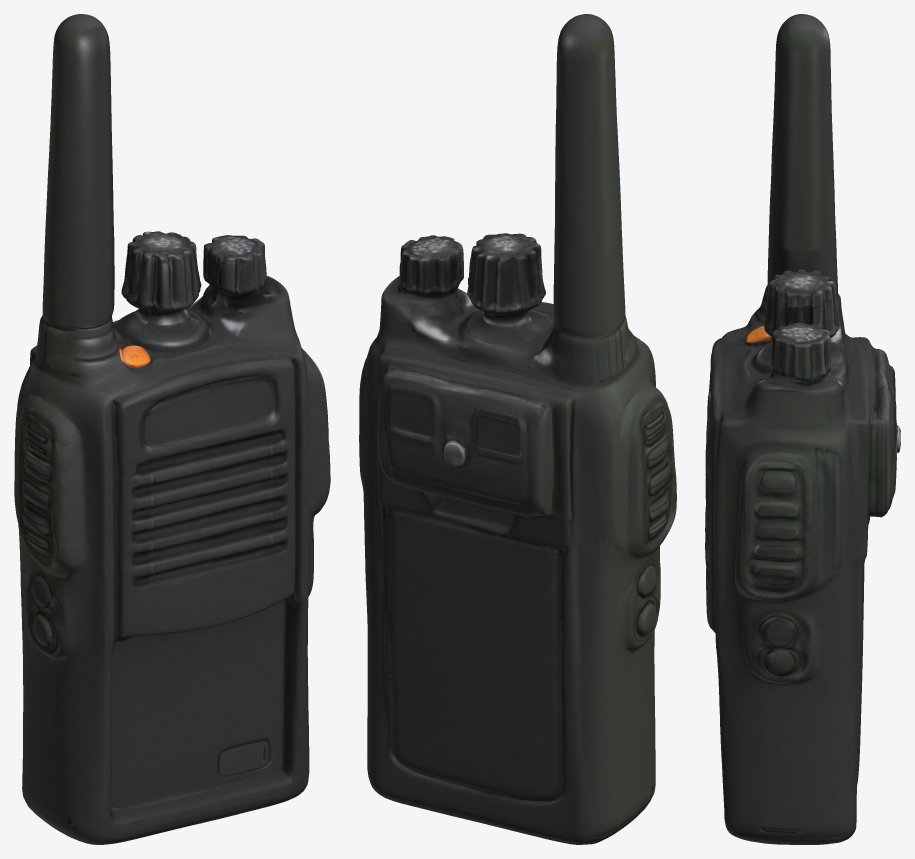
Rendered from hover1.glb.
The picture shows the model from 3 angles, left to right: view 1: azimuth 30°, elevation 25°; view 2: azimuth 150°, elevation 25°; view 3: azimuth 270°, elevation 25°; orthographic projection. The views are drawn at different scales.
Bounding box in the file's own units: 0.7326 × 1.99 × 0.4699.
Materials: 1 (1 with a texture image).
